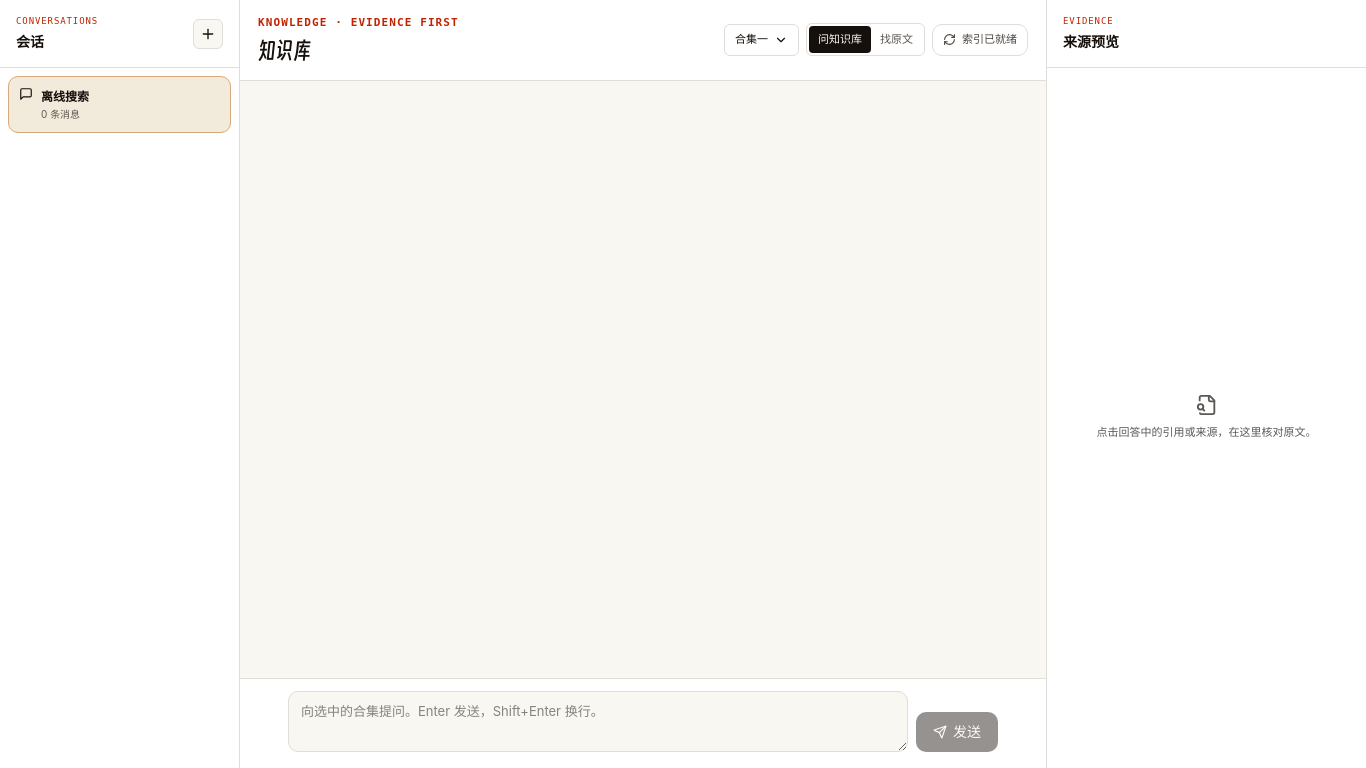
Knowledge conversation workspace › removes the optimistic question after persisted messages refresh
Expected: the text "离线搜索" is shown, [41, 87, 89, 106]
Step 1. Type "如何离线搜索？" into the text box named "知识库提问" → (598, 722), box [288, 691, 908, 752]
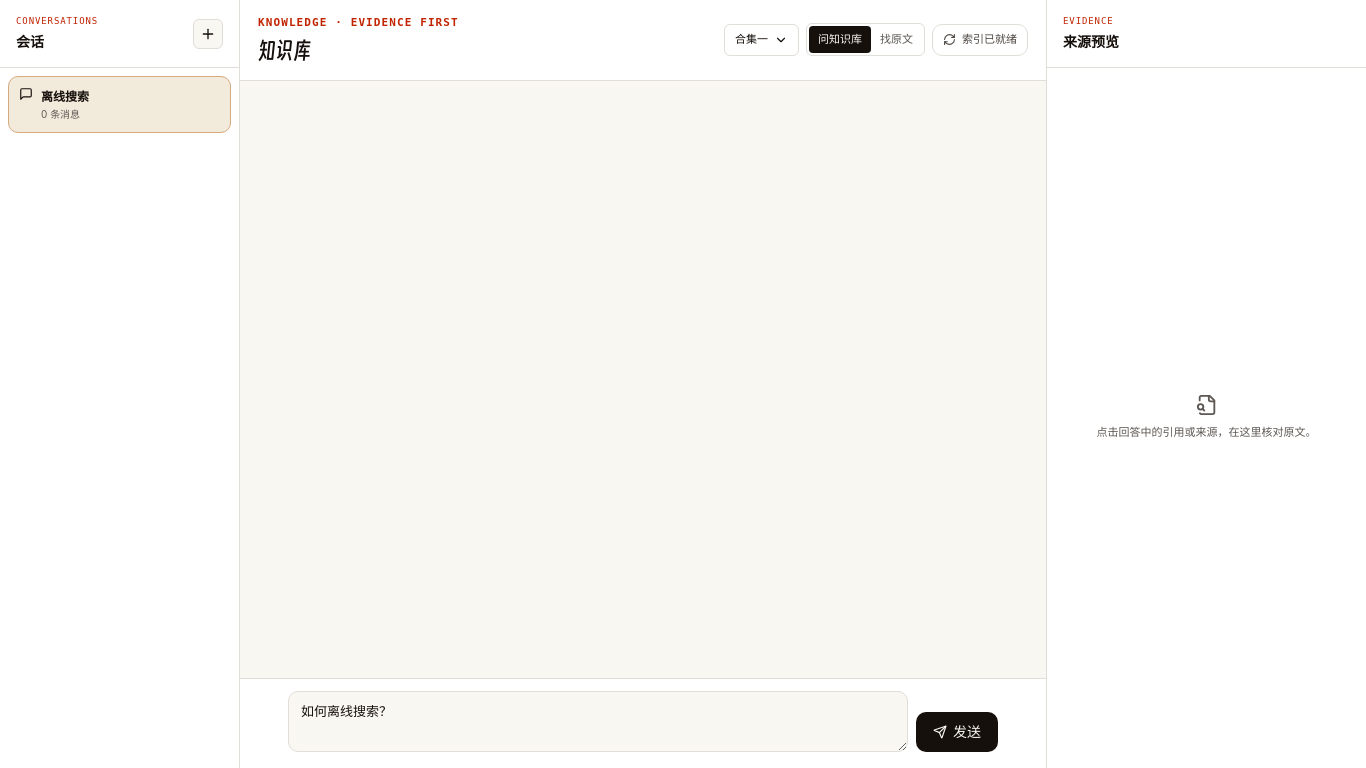
Step 2. Click the button with aria-label "发送问题" → (957, 732), box [916, 712, 998, 752]
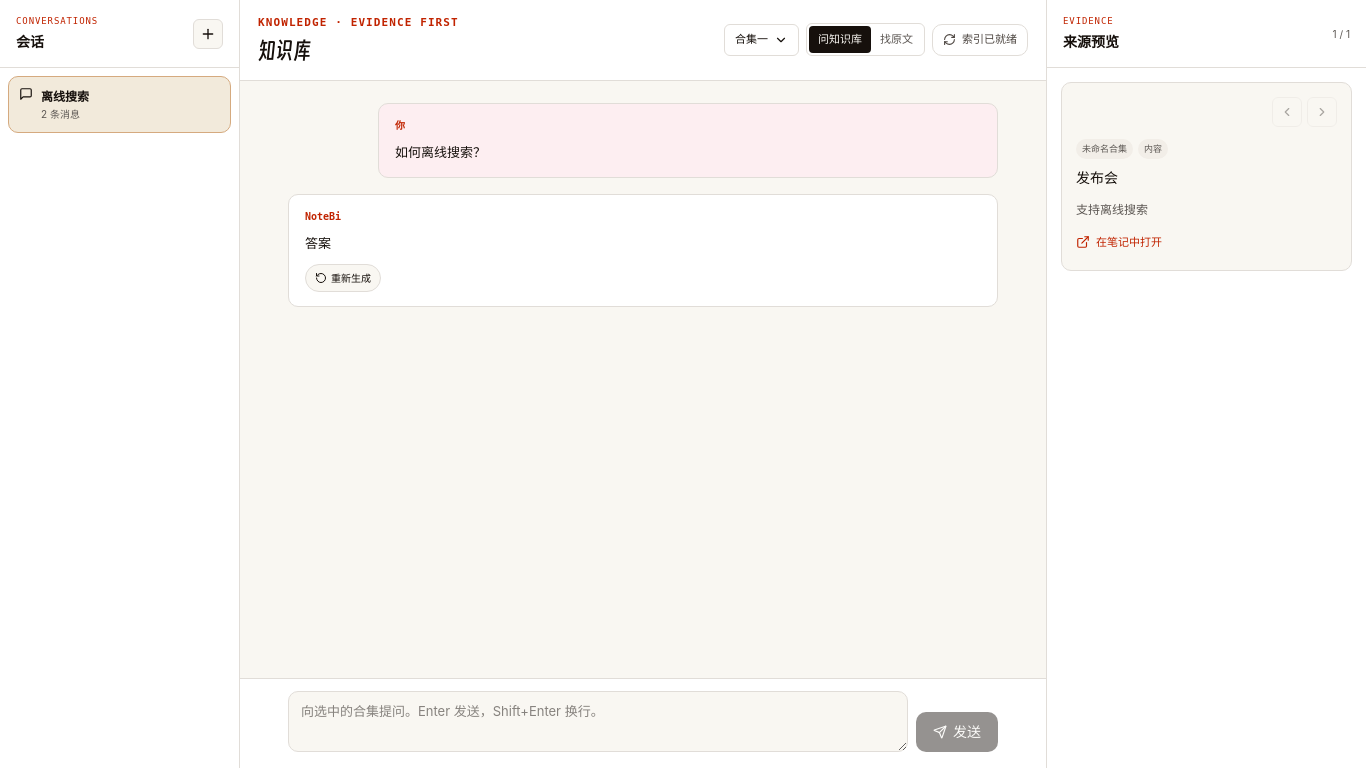
Now the text "如何离线搜索？" is shown once, box [395, 144, 486, 160]
